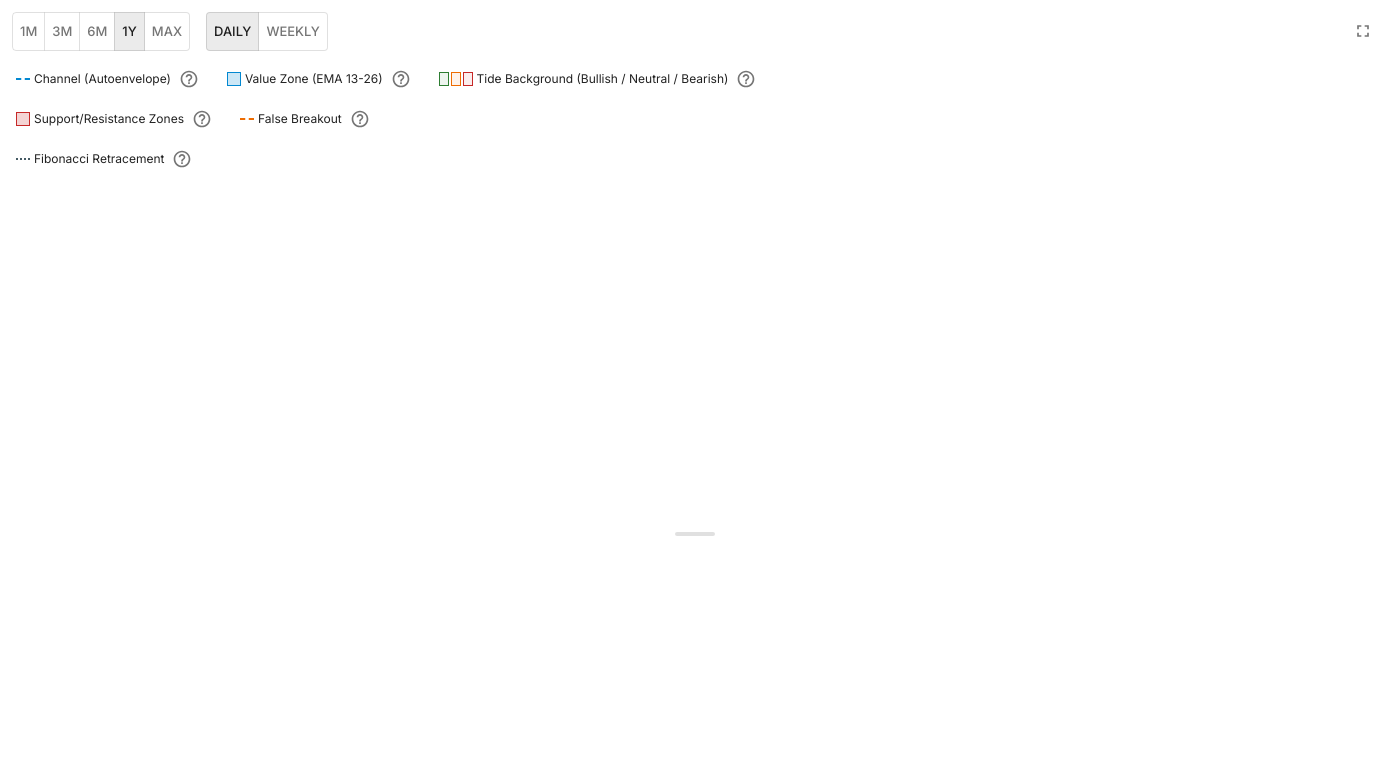
PriceChart › channel bands + value zone (frontend-channel-overlay) › clicking the Channel legend label hides BOTH channel-band series (upper + lower) via applyOptions, independent of Value Zone
Click the button with aria-label "Hide Channel (Autoenvelope) on the chart" at (93, 79), box top-left (12, 67), bottom-right (175, 91)
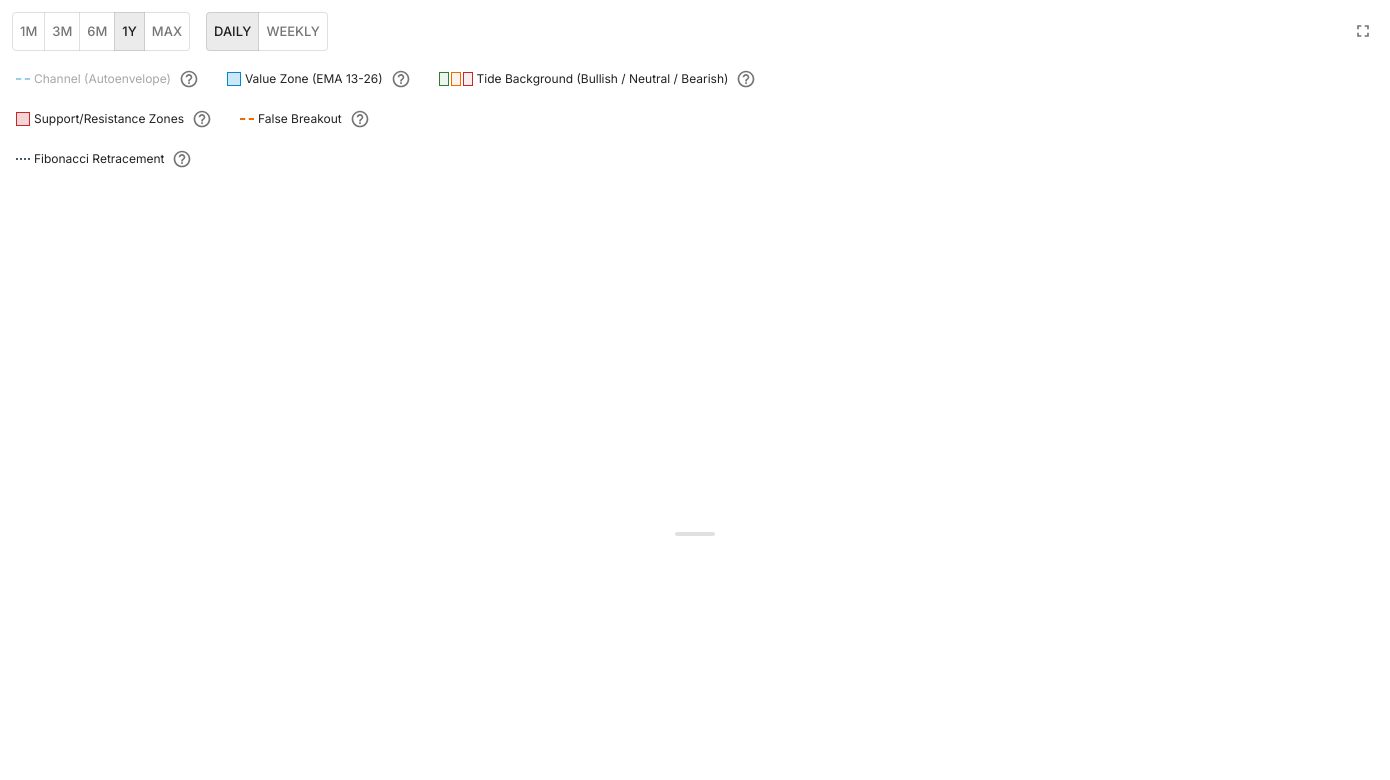
Check: the button with aria-label "Show Channel (Autoenvelope) on the chart" is not pressed
Click the button with aria-label "Show Channel (Autoenvelope) on the chart" at (93, 79), box top-left (12, 67), bottom-right (175, 91)
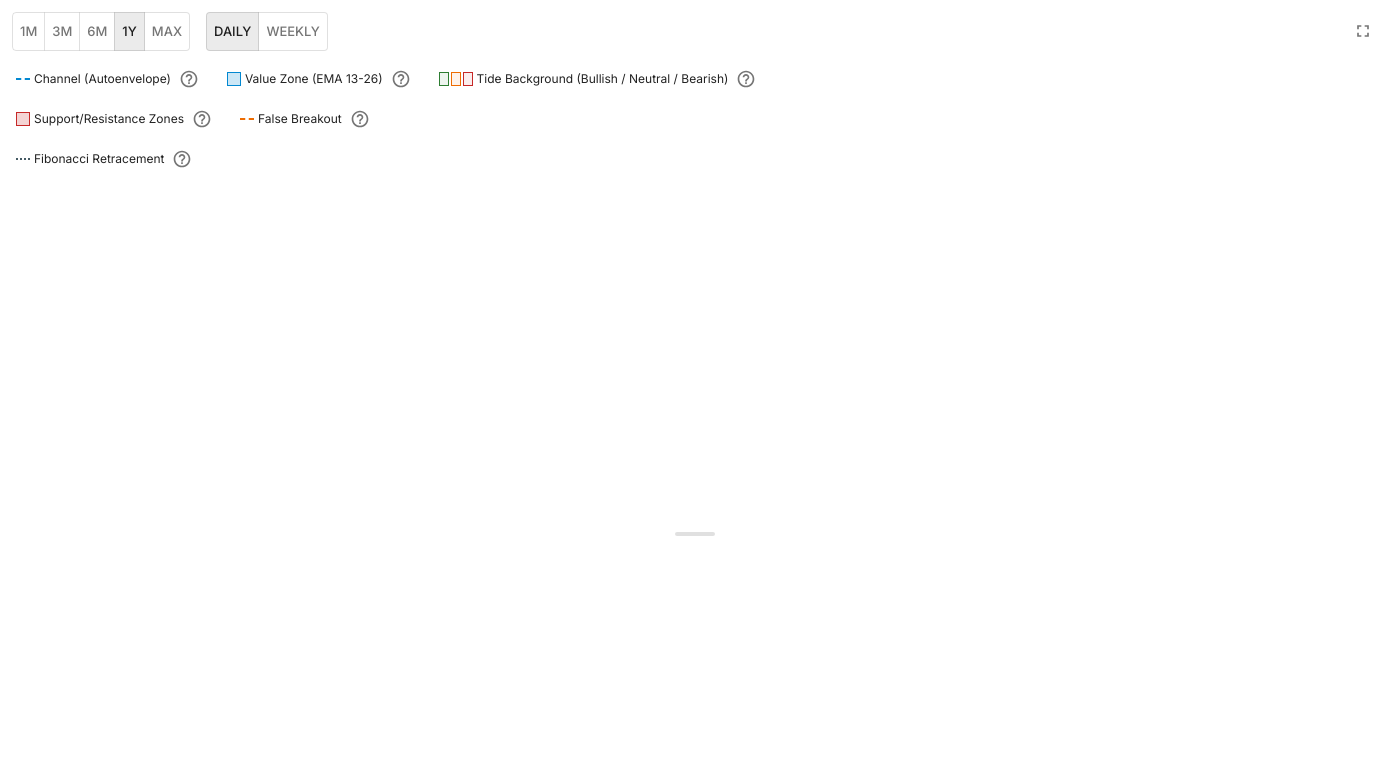
Note: The MetricHelp affordance next to the toggled label is unaffected.
Click the button named "Channel (Autoenvelope) help" at (189, 79), box top-left (179, 69), bottom-right (199, 89)
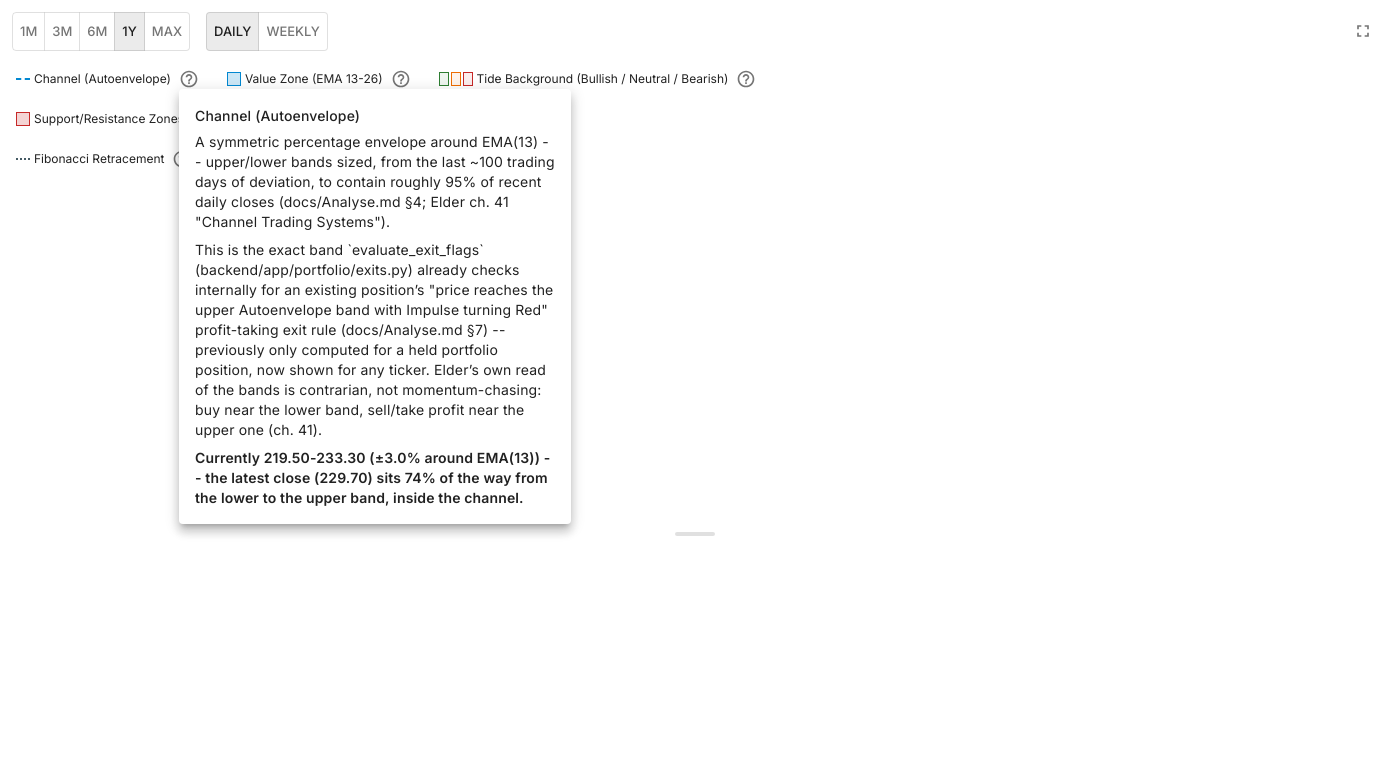
Check: the text "inside the channel" is shown, box top-left (195, 449), bottom-right (550, 506)
